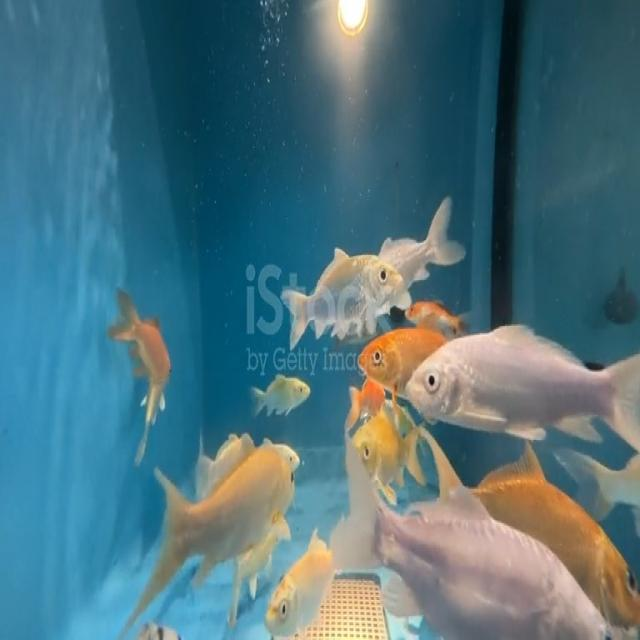fish: (334, 453, 634, 640), (138, 426, 308, 629), (405, 316, 640, 457), (476, 456, 640, 625), (277, 248, 418, 337), (382, 188, 488, 282), (259, 524, 334, 640), (106, 283, 174, 389), (358, 317, 421, 400), (237, 522, 297, 604), (246, 361, 322, 422), (137, 374, 164, 488), (404, 290, 467, 334), (351, 385, 384, 426)
